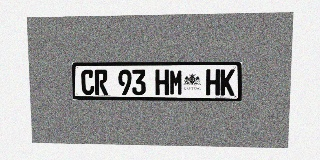3: (132, 69, 146, 95)
9: (118, 69, 132, 95)
C: (81, 70, 94, 95)
H: (155, 69, 169, 95), (206, 69, 220, 95)
K: (220, 69, 235, 96)
M: (169, 69, 183, 95)
R: (94, 70, 108, 95)
